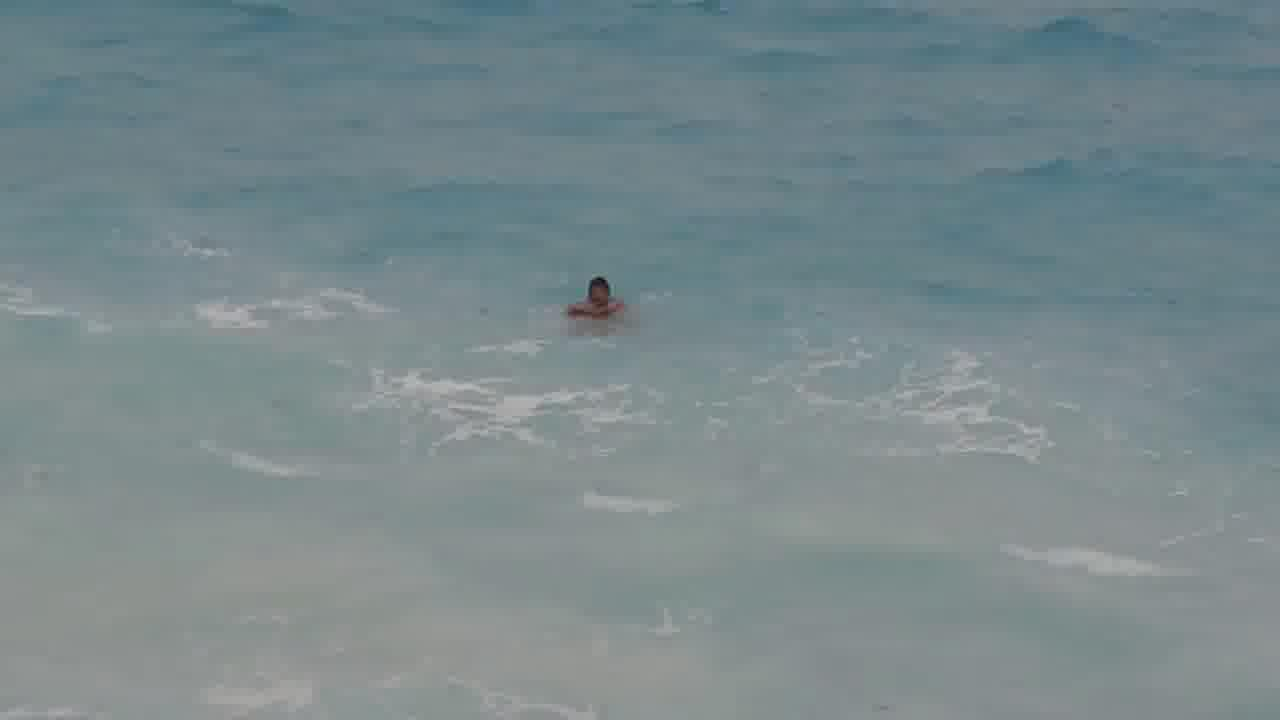swimmer: (562, 270, 630, 325)
